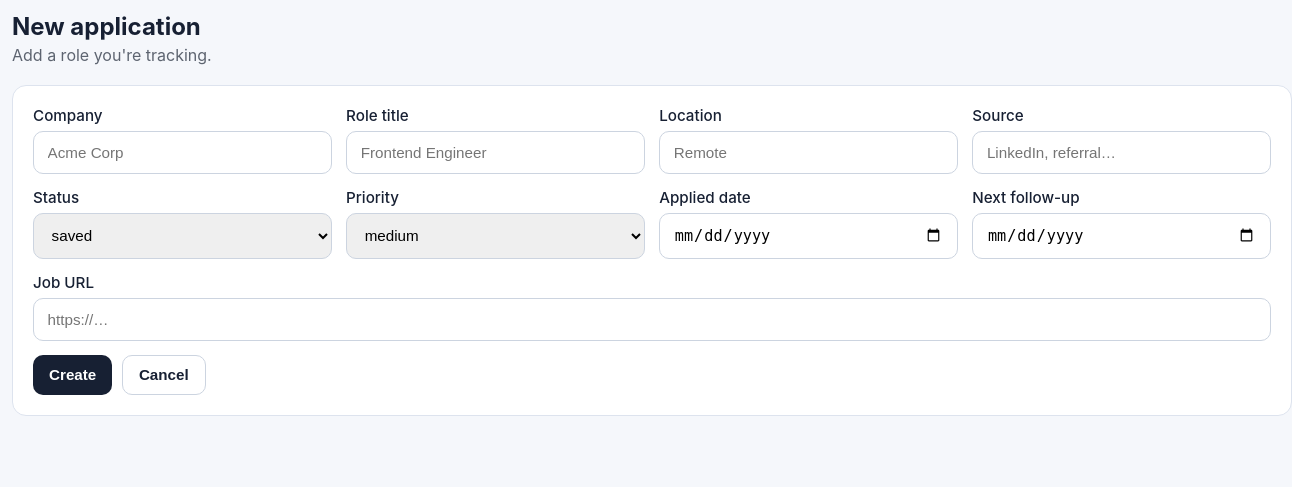
Test: NewApplicationPage › validates that role title is required
Click the button "Create" at coordinates (73, 375), box [33,355,112,395]
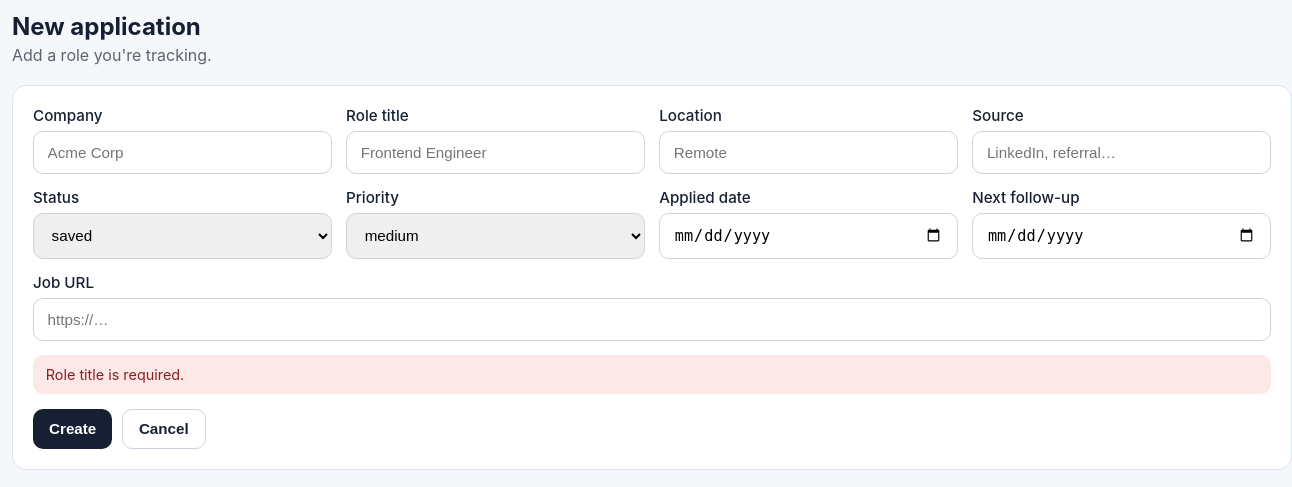
expect the text "Role title is required." is shown: met, box [33,355,1271,394]
